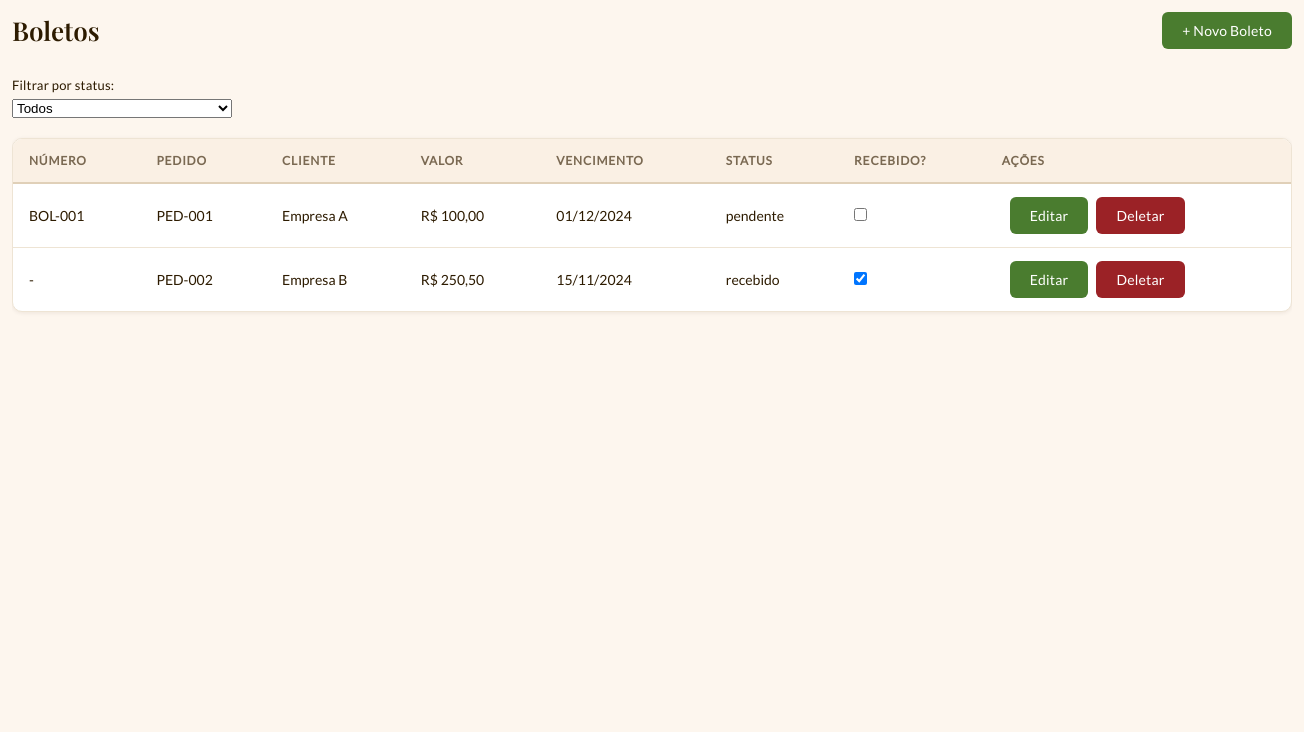
Test: Boletos › lida com erro ao deletar boleto
Expected: the text "BOL-001" is shown, [13, 183, 140, 248]
What coordinates should you click on to do the following:
click the button "Deletar" in the row of "BOL-001"
I would click on:
 (1140, 216)
Its box is [1096, 197, 1185, 234].
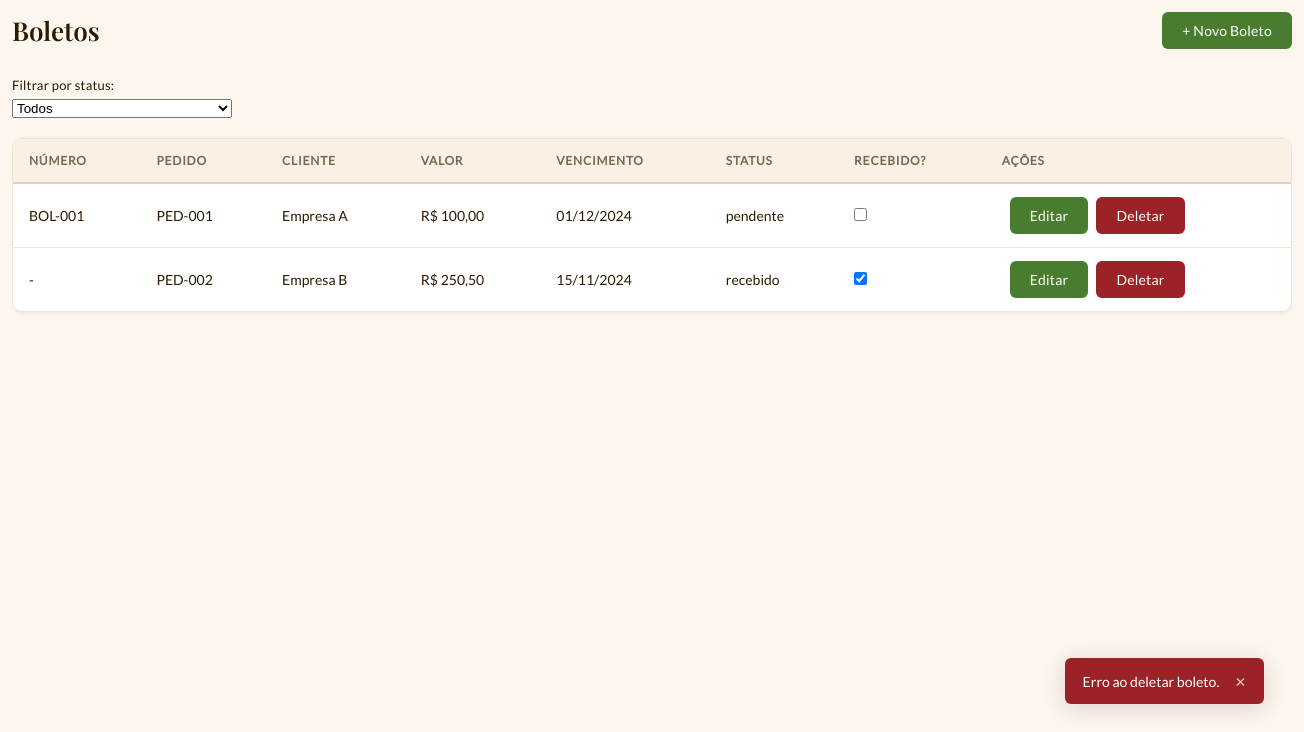
Expected: the text "Erro ao deletar boleto." is shown, [1083, 672, 1219, 690]
